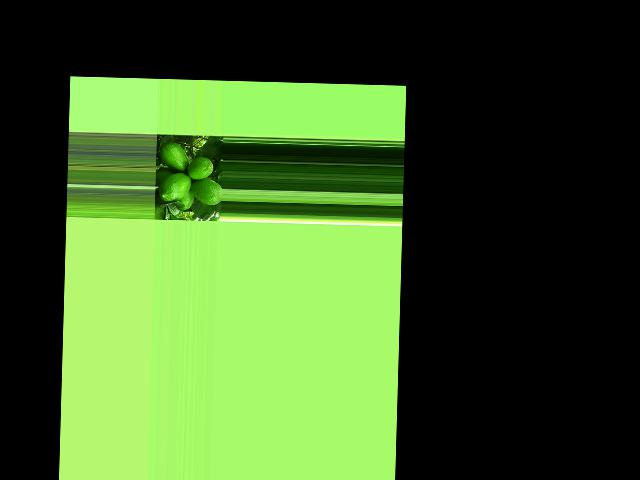lemon: (159, 140, 190, 174)
